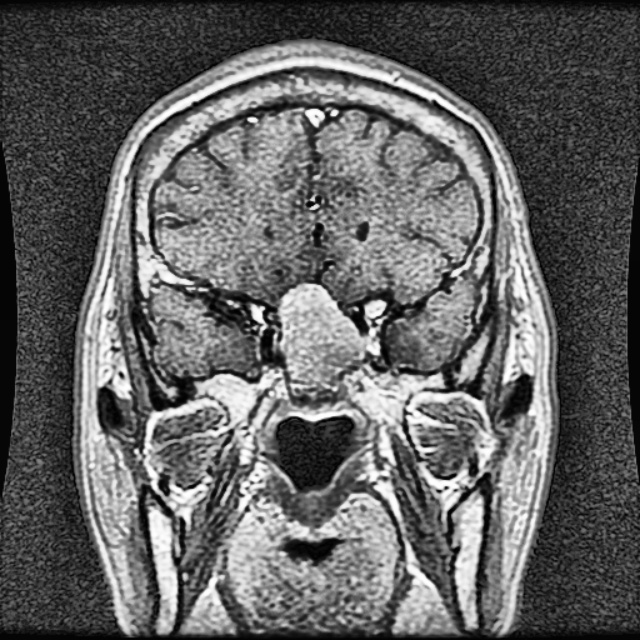Pituitary: (282, 284, 369, 382)
